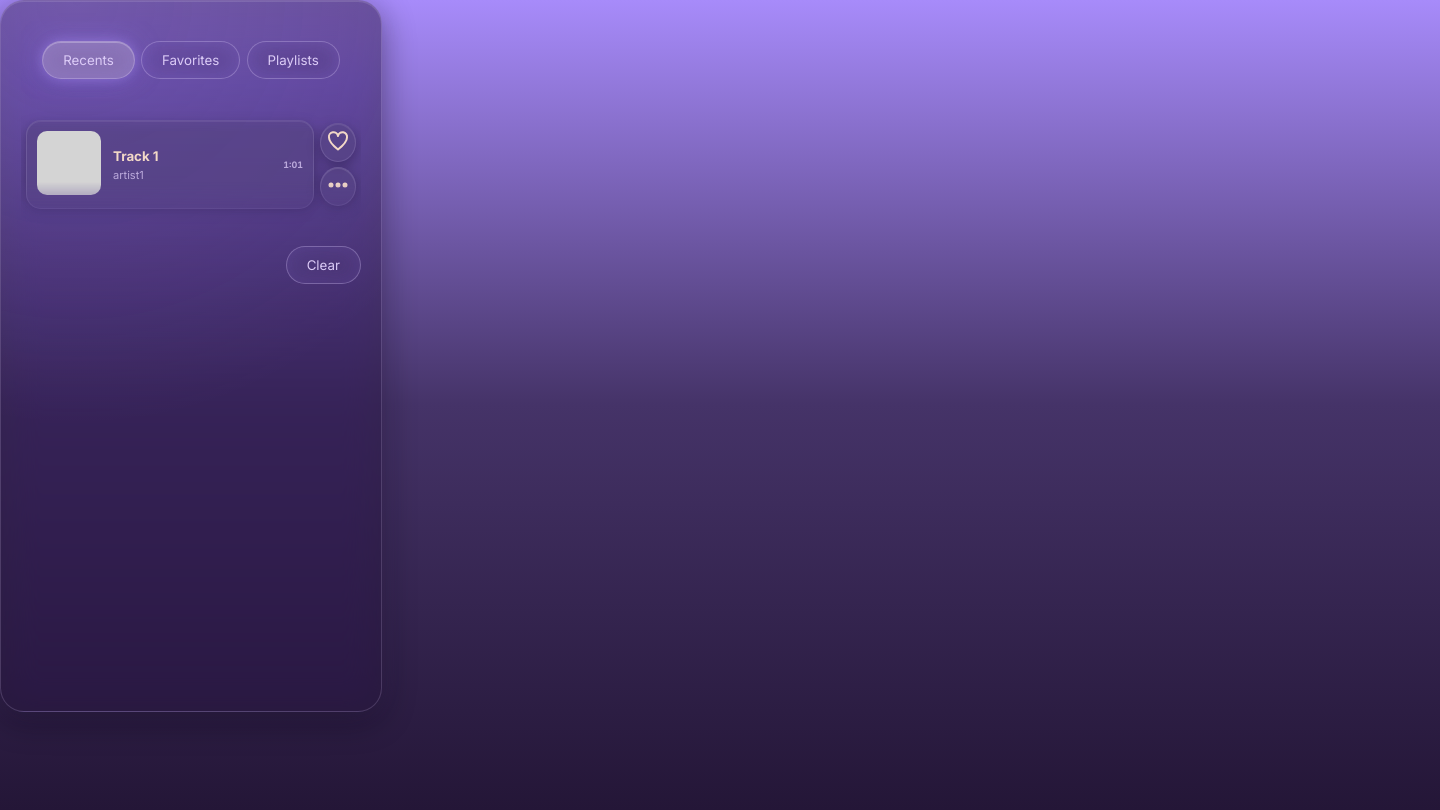
Test: PlaylistPane › '< Back' returns to the folder list
The image size is (1440, 810).
Click the button "Playlists".
click(293, 60)  # box [246, 41, 340, 79]
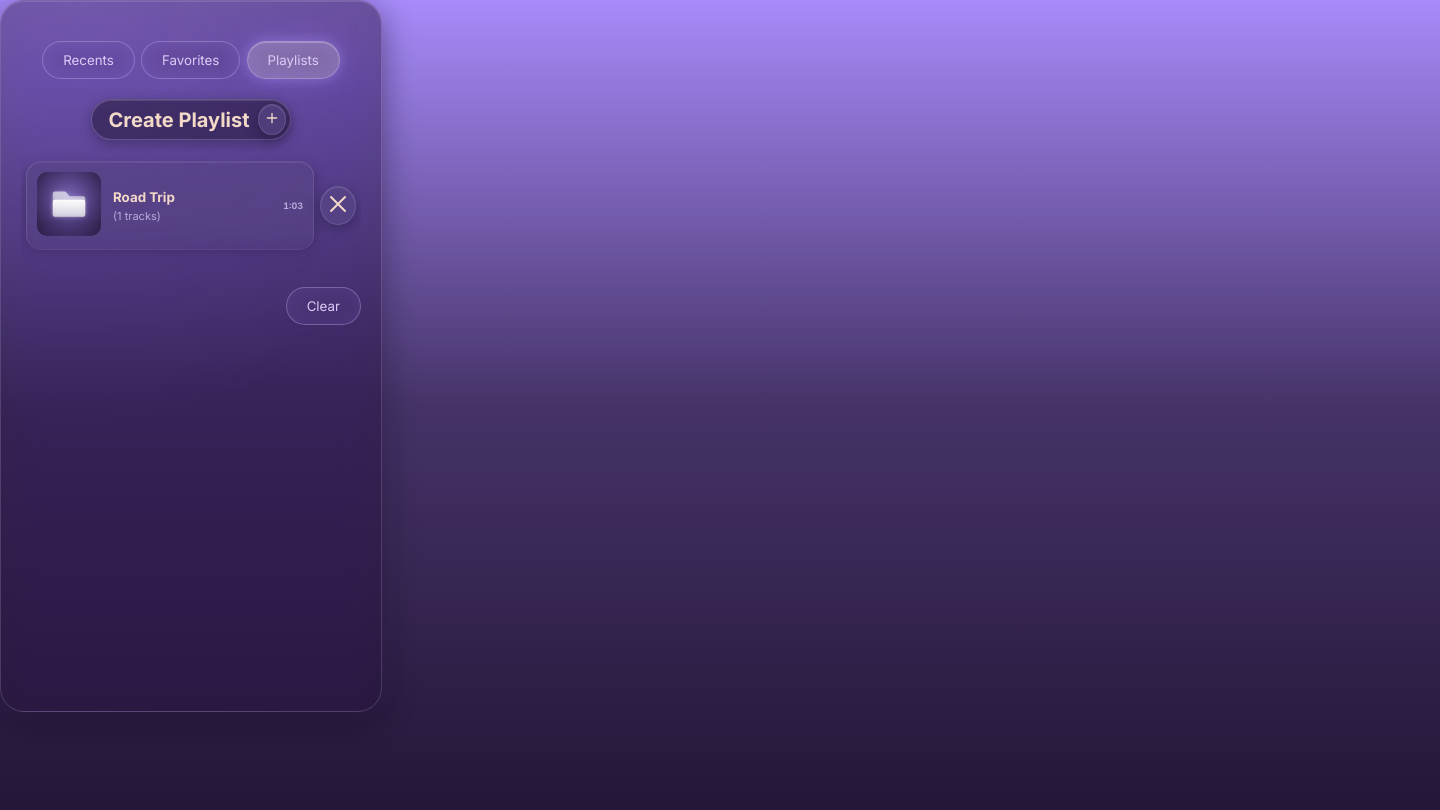
Click the button "Road Trip (1 tracks) 1:03".
click(170, 206)  # box [26, 161, 314, 250]
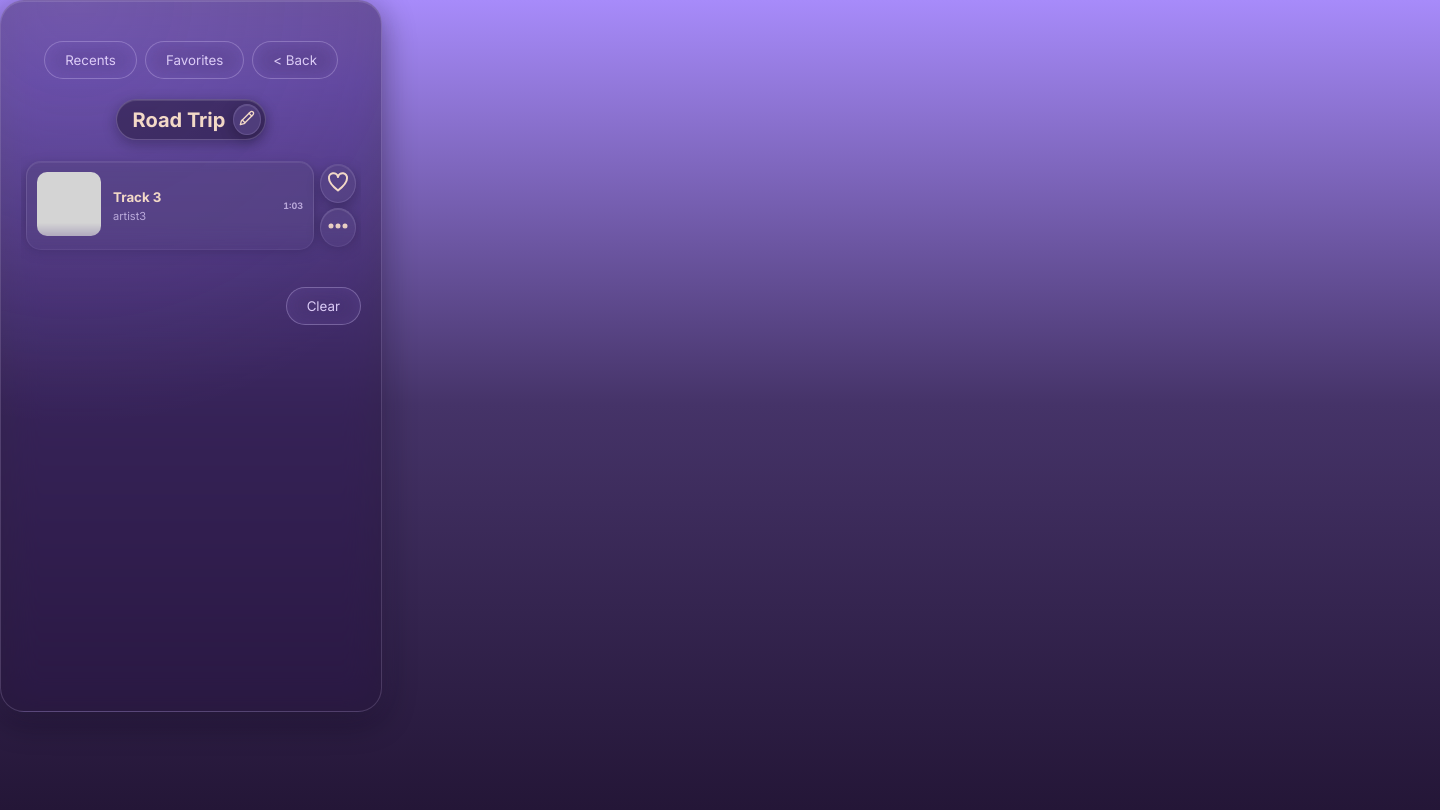
Click the button "< Back".
click(295, 60)  # box [252, 41, 338, 79]
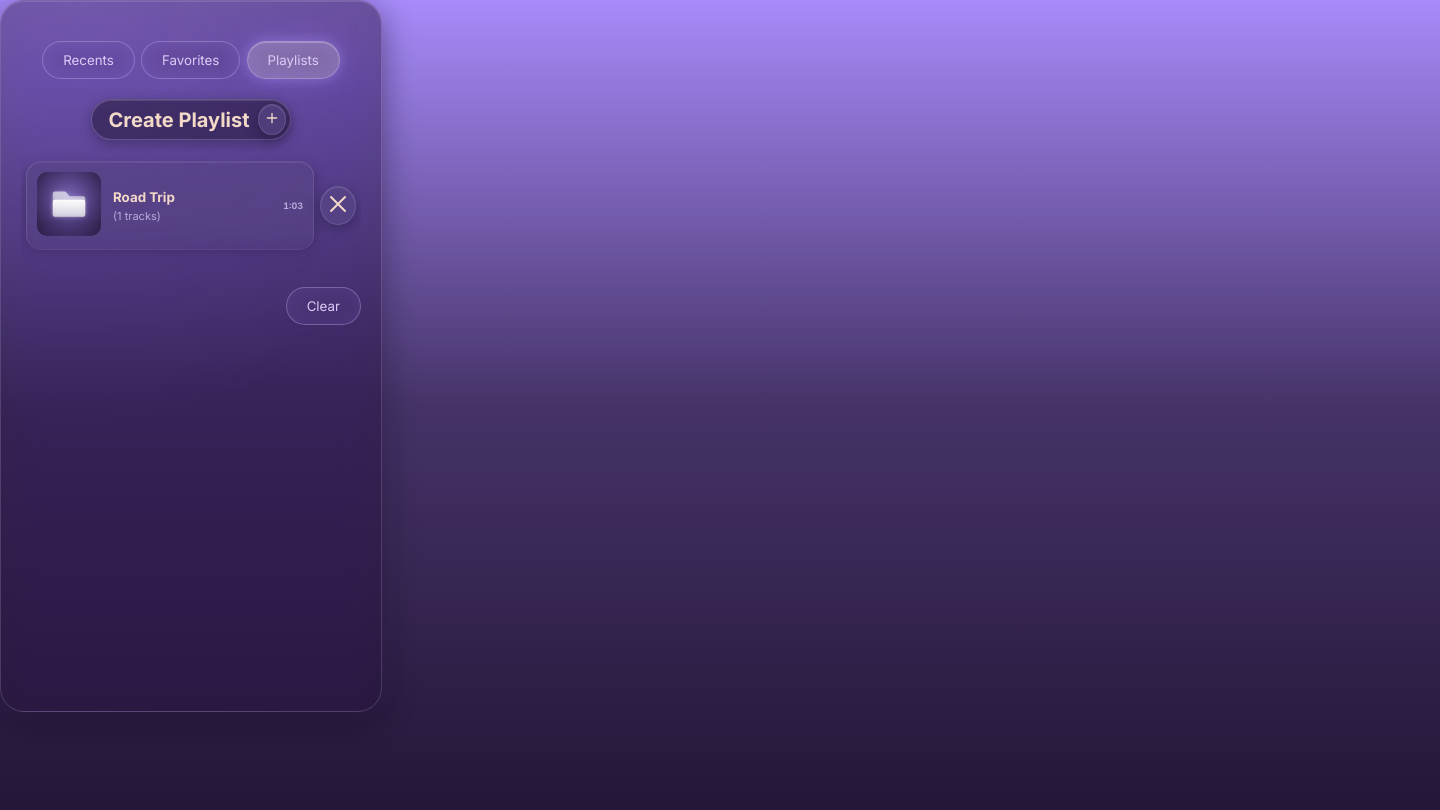
Result: the heading "Create Playlist" is shown at [108, 108, 250, 132]
Result: the button "Playlists" is shown at [246, 41, 340, 79]
